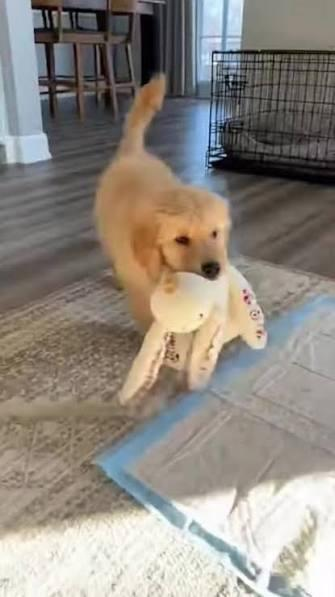puppy-dog: (90, 74, 233, 333)
